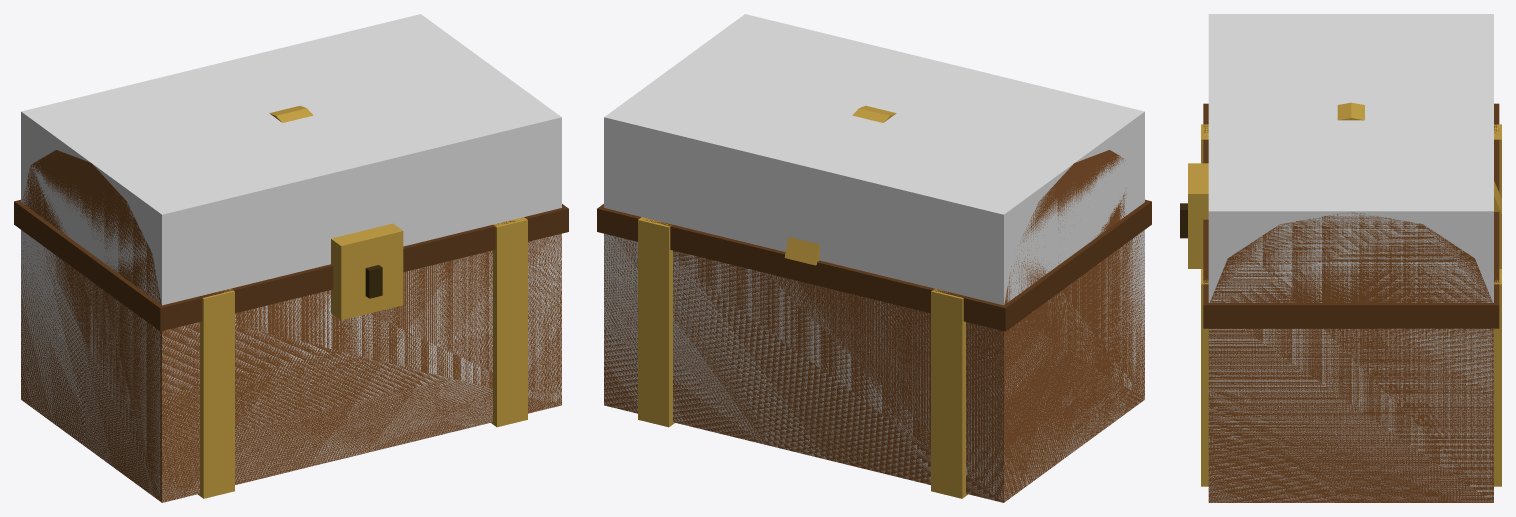
Rendered from cofre.glb.
The picture shows the model from 3 angles, left to right: view 1: azimuth 30°, elevation 25°; view 2: azimuth 150°, elevation 25°; view 3: azimuth 270°, elevation 25°; orthographic projection.
Visible parts, largest first — view 1: col_cofre, cofre_caja, cofre_borde, cofre_tapa, cofre_fleje_d, cofre_fleje_i, cofre_cerradura; view 2: col_cofre, cofre_caja, cofre_borde, cofre_fleje_d, cofre_fleje_i, cofre_tapa, cofre_fleje_tapa_d; view 3: col_cofre, cofre_caja, cofre_tapa, cofre_borde, cofre_fleje_d, cofre_cerradura, cofre_fleje_tapa_d, cofre_fleje_i.
Part boxes in pixels (x1=…): col_cofre: x1=21, y1=14, x2=561, y2=502; cofre_caja: x1=21, y1=234, x2=561, y2=502; cofre_borde: x1=14, y1=199, x2=568, y2=331; cofre_tapa: x1=22, y1=150, x2=161, y2=304; cofre_fleje_d: x1=491, y1=217, x2=527, y2=427; cofre_fleje_i: x1=198, y1=289, x2=234, y2=498; cofre_cerradura: x1=331, y1=223, x2=403, y2=320; col_cofre: x1=604, y1=14, x2=1144, y2=501; cofre_caja: x1=604, y1=231, x2=1144, y2=502; cofre_borde: x1=597, y1=199, x2=1151, y2=331; cofre_fleje_d: x1=638, y1=217, x2=674, y2=427; cofre_fleje_i: x1=931, y1=289, x2=967, y2=498; cofre_tapa: x1=1004, y1=150, x2=1126, y2=304; cofre_fleje_tapa_d: x1=784, y1=105, x2=896, y2=265; col_cofre: x1=1208, y1=14, x2=1493, y2=502; cofre_caja: x1=1208, y1=328, x2=1493, y2=502; cofre_tapa: x1=1210, y1=212, x2=1492, y2=302; cofre_borde: x1=1203, y1=103, x2=1499, y2=328; cofre_fleje_d: x1=1201, y1=269, x2=1501, y2=486; cofre_cerradura: x1=1188, y1=163, x2=1208, y2=268; cofre_fleje_tapa_d: x1=1337, y1=102, x2=1501, y2=214; cofre_fleje_i: x1=1201, y1=124, x2=1501, y2=268.
Bounding box in the file's own units: 0.92 × 0.63 × 0.62.
